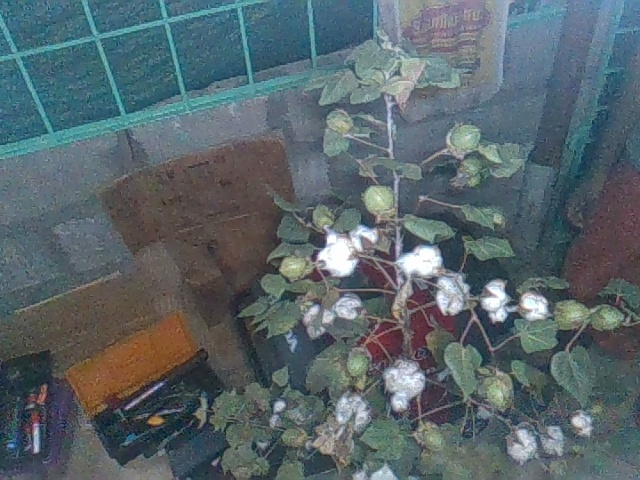cotton: (312, 223, 379, 280), (381, 359, 429, 414), (394, 243, 446, 280), (477, 278, 516, 327), (432, 271, 473, 317), (329, 387, 373, 427), (503, 421, 541, 467), (536, 423, 571, 461), (296, 304, 334, 338), (516, 290, 553, 324), (346, 463, 419, 480), (334, 294, 365, 321), (571, 409, 594, 441)
